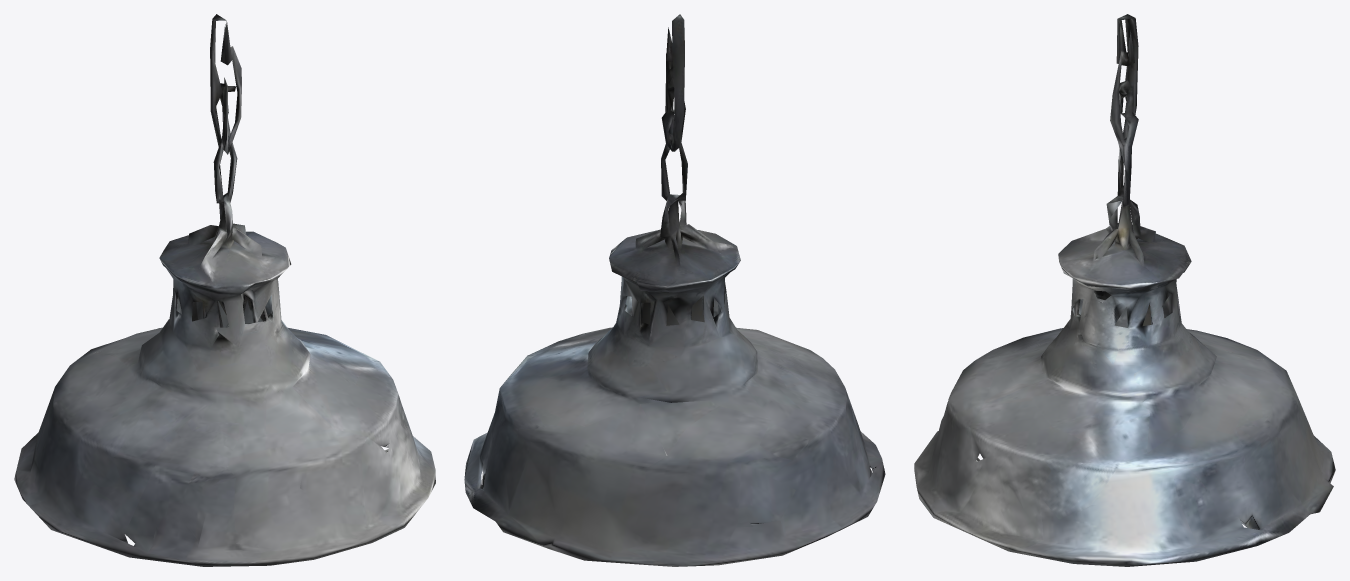
Rendered from gr_lamp.glb.
3 views of the same model, side by side, from view 1: azimuth 30°, elevation 25°; view 2: azimuth 150°, elevation 25°; view 3: azimuth 270°, elevation 25° (orthographic).
Parts seen in each view (by area): view 1: tripo_node_773e3a26-da37-466b-ae28-ab85491e2ce3; view 2: tripo_node_773e3a26-da37-466b-ae28-ab85491e2ce3; view 3: tripo_node_773e3a26-da37-466b-ae28-ab85491e2ce3.
Boxes of the visible parts, left/top/right/bottom form: tripo_node_773e3a26-da37-466b-ae28-ab85491e2ce3: left=14, top=14, right=435, bottom=566; tripo_node_773e3a26-da37-466b-ae28-ab85491e2ce3: left=464, top=14, right=885, bottom=566; tripo_node_773e3a26-da37-466b-ae28-ab85491e2ce3: left=914, top=14, right=1335, bottom=566.
Size of the model in its own units: 0.8323 by 1 by 0.83.
1 material, 1 textured.
